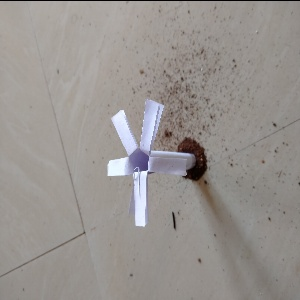weed: (99, 99, 197, 213)
